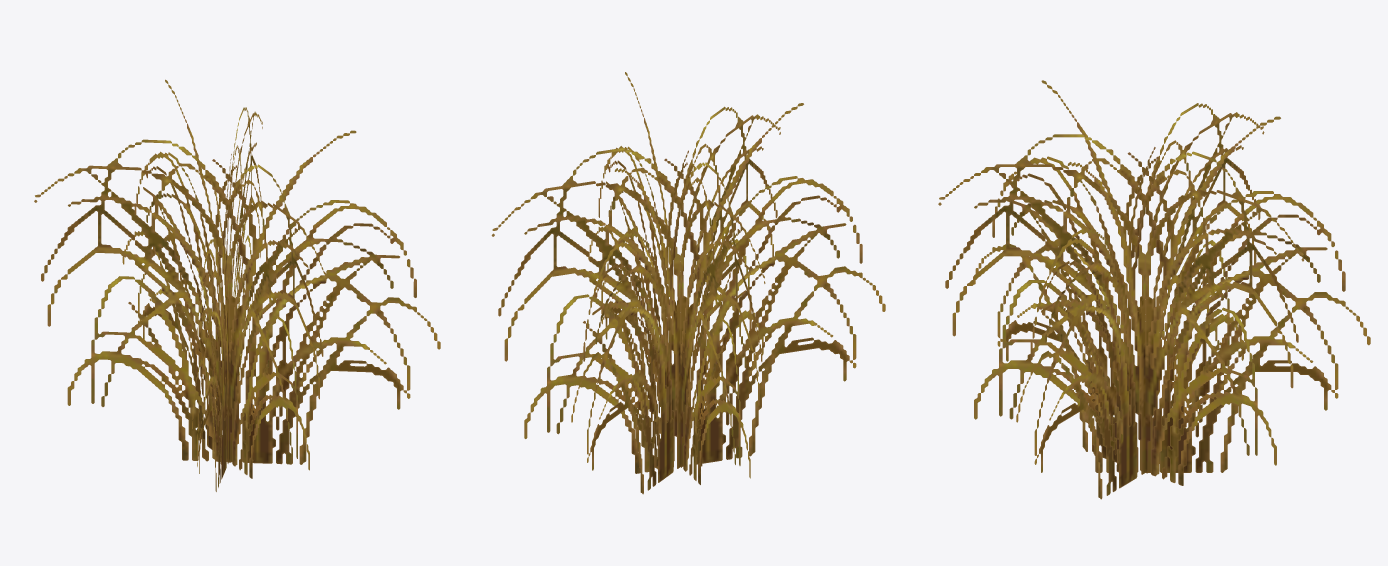
Rendered from grass_single03.glb.
3 views of the same model, side by side, from view 1: azimuth 30°, elevation 25°; view 2: azimuth 150°, elevation 25°; view 3: azimuth 270°, elevation 25° (orthographic). The views are drawn at different scales.
Parts seen in each view (by area): view 1: grass_single03; view 2: grass_single03; view 3: grass_single03.
Boxes of the visible parts, x1=… form: grass_single03: x1=34, y1=79, x2=440, y2=491; grass_single03: x1=491, y1=72, x2=885, y2=494; grass_single03: x1=938, y1=80, x2=1370, y2=499.
Bounding box in the file's own units: 1.05 × 1.17 × 1.28.
1 material, 1 textured.
